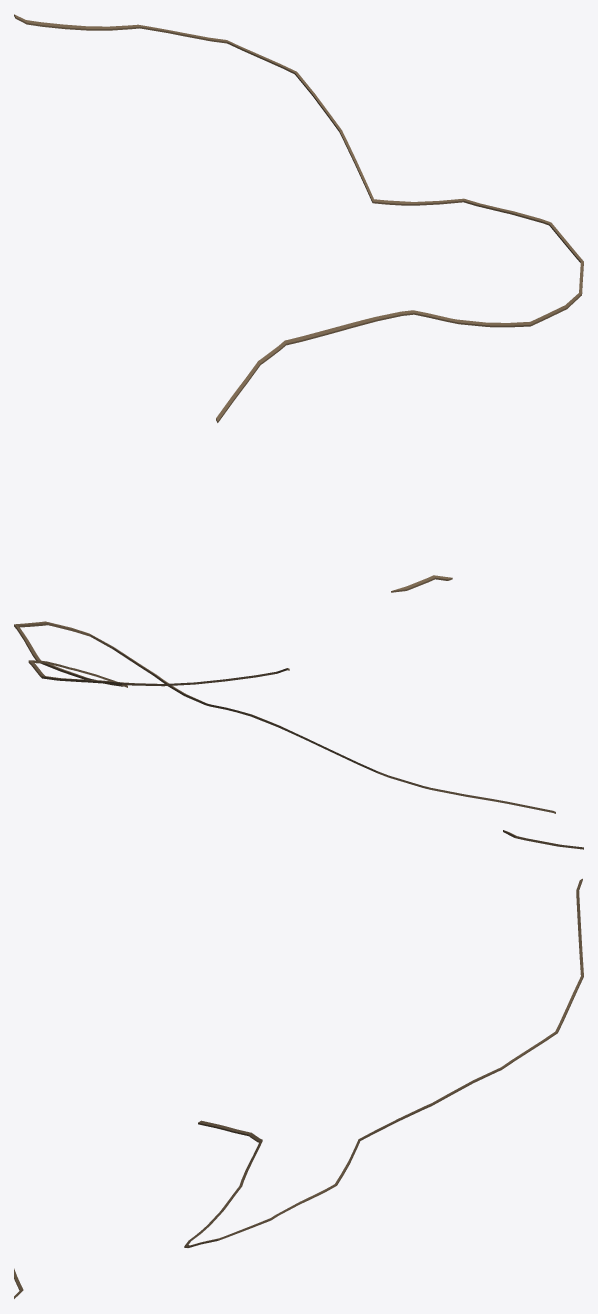
3 renders of one model, top to bottom at view 1: azimuth 30°, elevation 25°; view 2: azimuth 150°, elevation 25°; view 3: azimuth 270°, elevation 25°, orthographic. The views are drawn at different scales.
Bounding box in the file's own units: 166 × 159 × 230.
